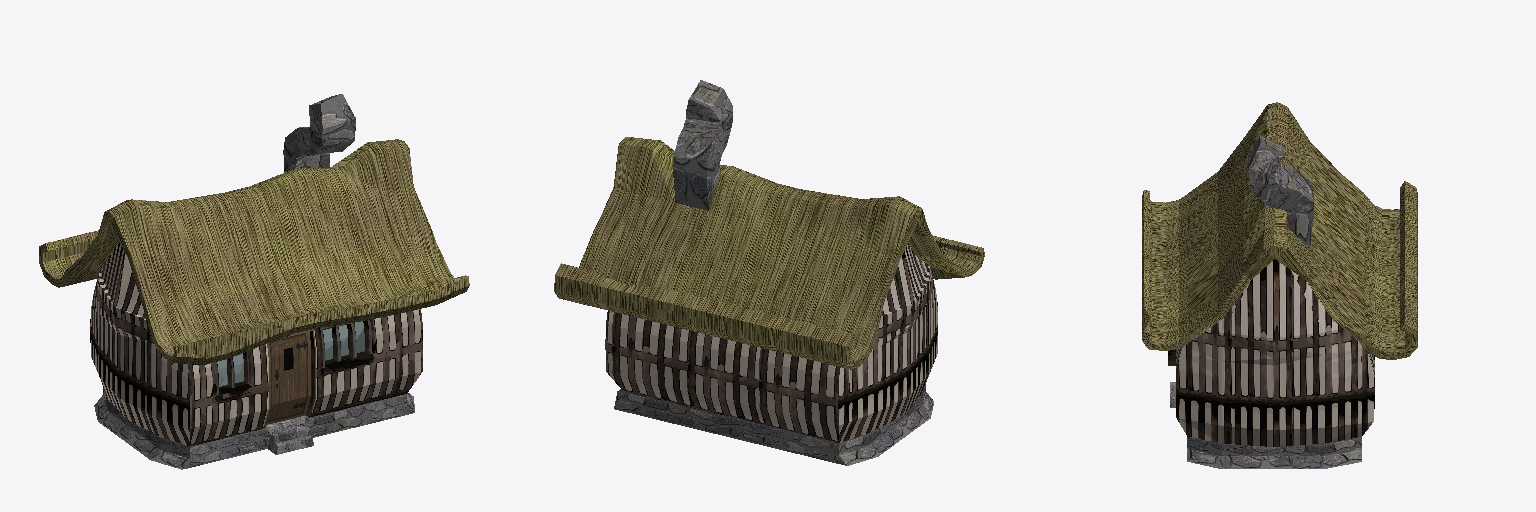
The picture shows the model from 3 angles: view 1: azimuth 30°, elevation 25°; view 2: azimuth 150°, elevation 25°; view 3: azimuth 270°, elevation 25°; orthographic projection.
Visible parts, largest first — view 1: house3; view 2: house3; view 3: house3.
Boxes of the visible parts, <box> form: house3: <box>39,94,469,469</box>; house3: <box>554,80,984,465</box>; house3: <box>1142,102,1417,468</box>.
Size of the model in its own units: 11.62 by 11.29 by 9.4.
Materials: 6 (4 with a texture image).